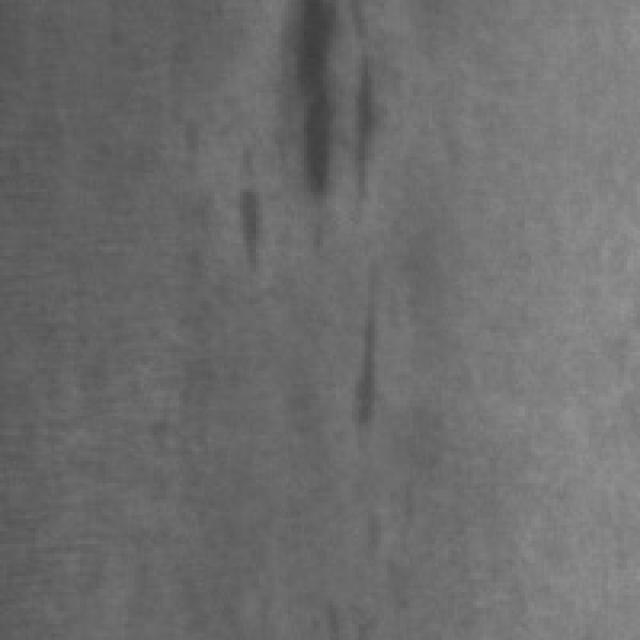inclusion: (282, 0, 401, 246), (342, 266, 400, 438), (230, 141, 276, 272)
